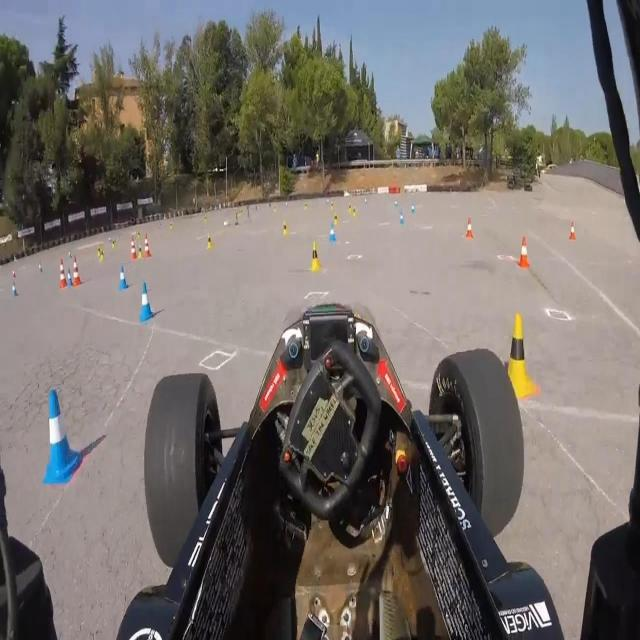blue_cone: (44, 387, 82, 493), (139, 279, 154, 325), (118, 265, 128, 291), (11, 279, 19, 299), (330, 222, 337, 242), (67, 268, 73, 288), (398, 210, 405, 226), (37, 260, 44, 274), (411, 202, 416, 216), (394, 199, 398, 209)
large_orange_cone: (58, 257, 68, 290), (73, 256, 82, 287), (130, 236, 138, 262), (143, 234, 151, 258)
orange_cone: (515, 237, 531, 270), (568, 216, 578, 242), (466, 217, 476, 240)
yellow_cone: (496, 317, 532, 401), (310, 242, 322, 274), (206, 231, 214, 252), (282, 220, 290, 237), (138, 242, 144, 260), (334, 213, 339, 230), (97, 242, 102, 256), (352, 207, 357, 219), (100, 247, 104, 261), (348, 202, 352, 214), (304, 201, 308, 212), (331, 201, 334, 210)
